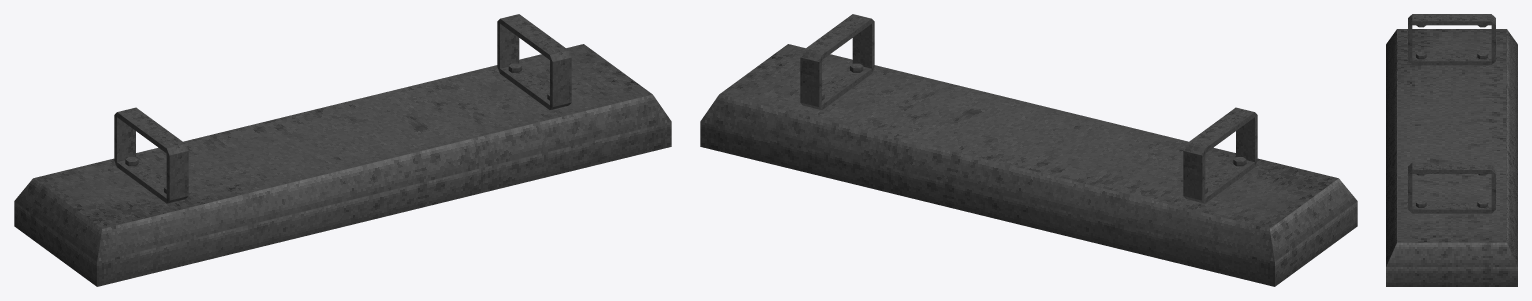
File: ceiling_lamp_4_a_on.glb
3 renders of one model, left to right at view 1: azimuth 30°, elevation 25°; view 2: azimuth 150°, elevation 25°; view 3: azimuth 270°, elevation 25°, orthographic. The views are drawn at different scales.
Parts seen in each view (by area): view 1: ceiling_lamp_4_a_on; view 2: ceiling_lamp_4_a_on; view 3: ceiling_lamp_4_a_on.
Part boxes in pixels (box(x1,y1,x2,y2)): ceiling_lamp_4_a_on: box(14, 14, 671, 286); ceiling_lamp_4_a_on: box(700, 14, 1357, 286); ceiling_lamp_4_a_on: box(1386, 14, 1517, 286).
Size of the model in its own units: 1.2 by 0.21 by 0.3.
Materials: 1 (1 with a texture image).
